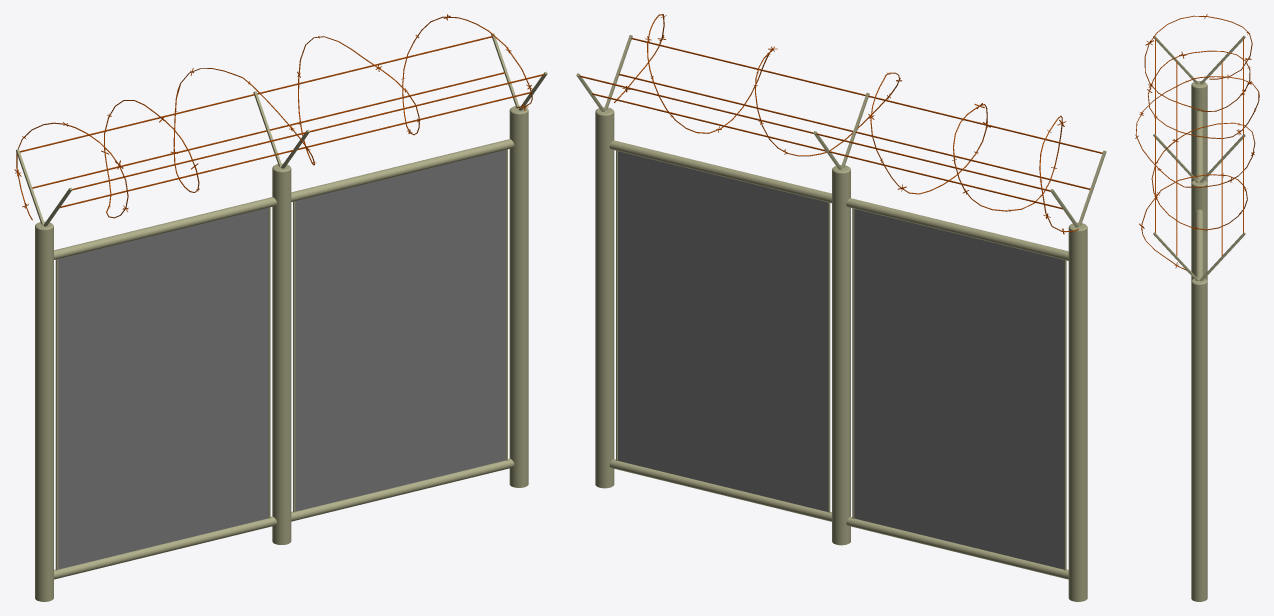
The model's file is BarbedWireFence_high.fbx.
3 renders of one model, left to right at view 1: azimuth 30°, elevation 25°; view 2: azimuth 150°, elevation 25°; view 3: azimuth 270°, elevation 25°, orthographic. The views are drawn at different scales.
Visible parts, largest first — view 1: barbedWire1; view 2: barbedWire1; view 3: barbedWire1.
Boxes of the visible parts, <box> form: barbedWire1: <box>14,14,547,601</box>; barbedWire1: <box>576,14,1106,601</box>; barbedWire1: <box>1135,14,1259,601</box>.
Bounding box in the file's own units: 414 × 384 × 107.
